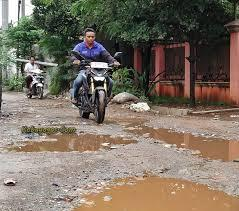Pothole: (115, 100, 239, 170), (56, 171, 239, 211), (1, 116, 143, 163)
